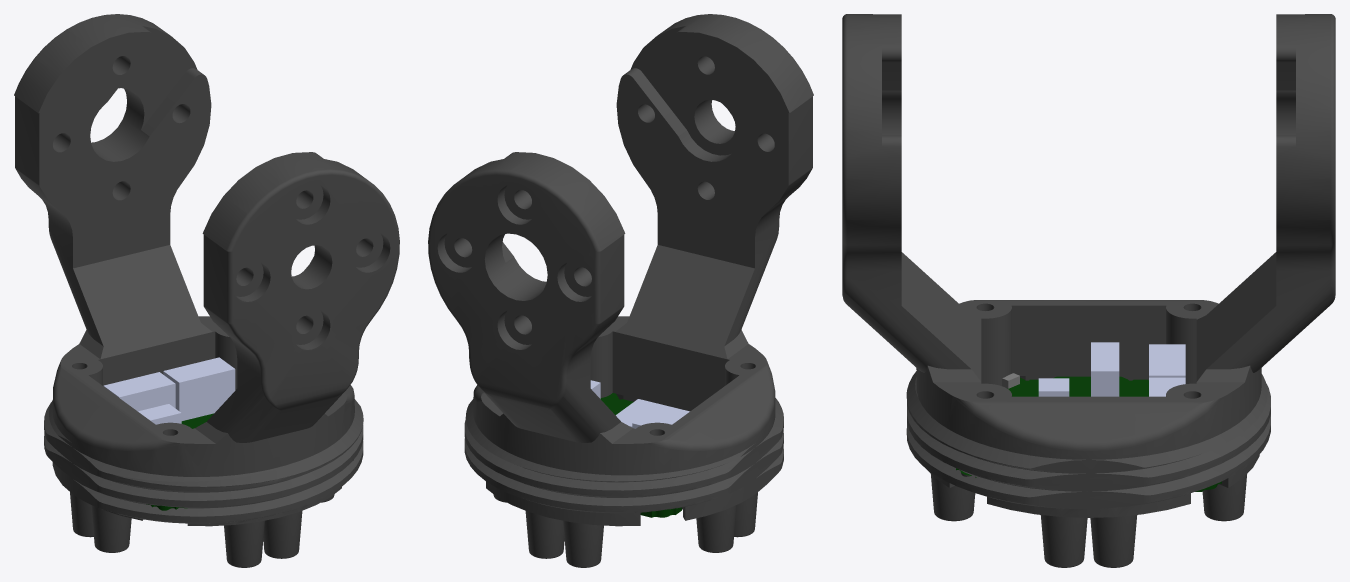
3 views of the same model, side by side, from view 1: azimuth 30°, elevation 25°; view 2: azimuth 150°, elevation 25°; view 3: azimuth 270°, elevation 25° (orthographic). The views are drawn at different scales.
Parts seen in each view (by area): view 1: node0, node9; view 2: node0, node9, node1; view 3: node0, node9, node1.
Boxes of the visible parts, x1,y1,x2,y2 form: node0: (14,14,399,567); node9: (103,357,235,424); node0: (428,14,813,567); node9: (590,380,689,428); node1: (600,393,681,517); node0: (842,14,1335,567); node9: (1038,342,1185,396); node1: (956,376,1221,491).
Size of the model in its own units: 0.035 by 0.0535 by 0.05.
